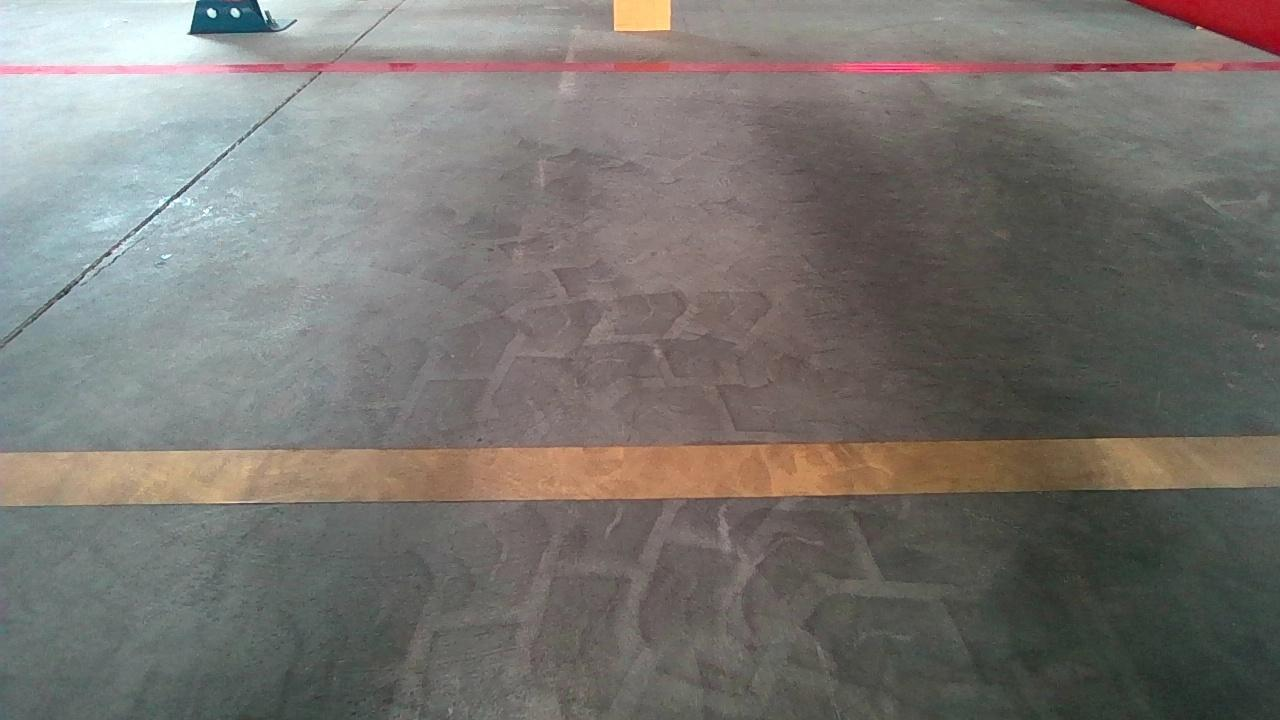orange_strip: (612, 0, 673, 32)
red_line: (8, 56, 1276, 82)
